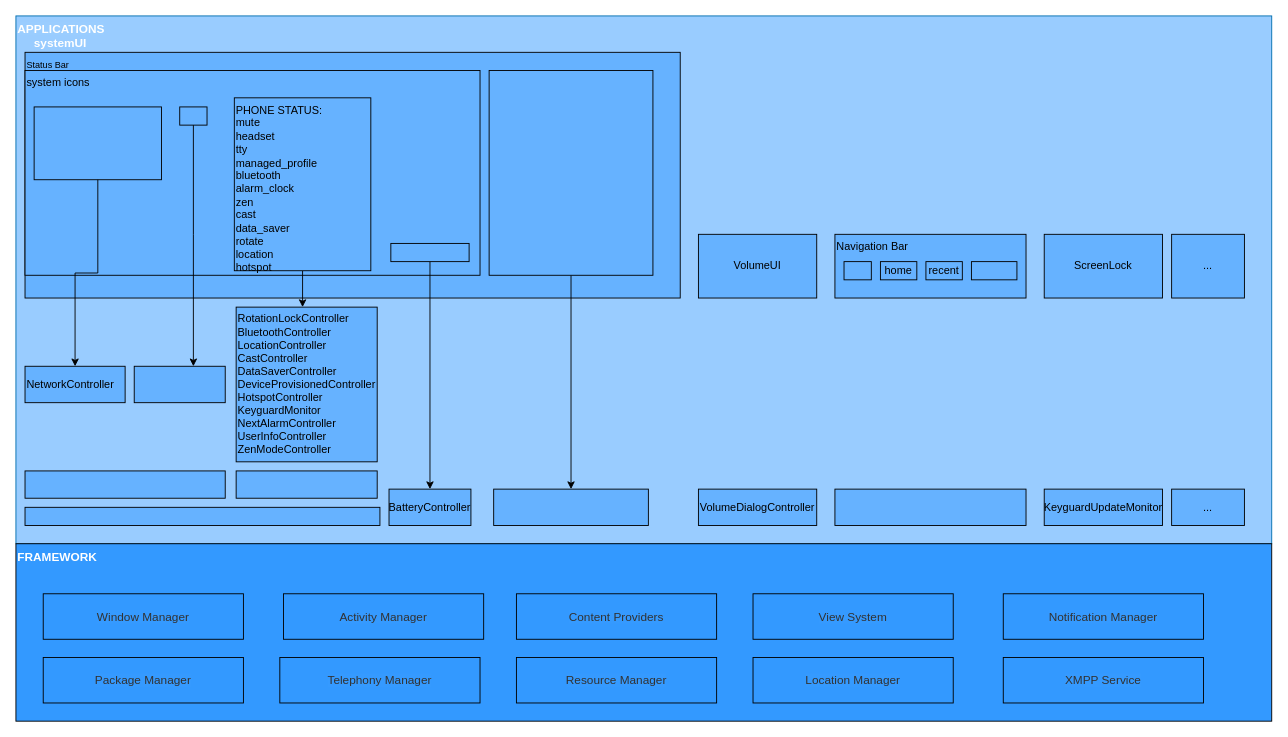
Some shapes in this 1288 by 737 pixel diagram are drawn without their labels. Each missing label, with the centre of its shape:
"back" belongs at point (857, 270).
"battery icon" belongs at point (429, 252).
"DarkIconManager" belongs at point (202, 516).
"NavigationBarFragment" belongs at point (930, 507).
"notification icons" belongs at point (570, 172).
"NotificationIconAreaController" belongs at point (570, 507).
"PhoneStatusBarPolicy" belongs at point (306, 484).
"SecurityController" belongs at point (179, 384).
"SIGNAL CLUSTER: wifi airplane mode mobile signal/data/Roam ethernet" belongs at point (97, 143).
"StatusBarSignalPolicy" belongs at point (124, 484).
"volume" belongs at point (994, 270).
"vpn" belongs at point (193, 115).
